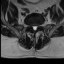CCS_normal: (34, 23, 35, 32)
LFS_severe_stenosis: (38, 23, 39, 28)
LLS_normal: (35, 24, 37, 29)
RFS_severe_stenosis: (30, 23, 32, 28)
RLS_stenosis: (32, 24, 34, 30)
